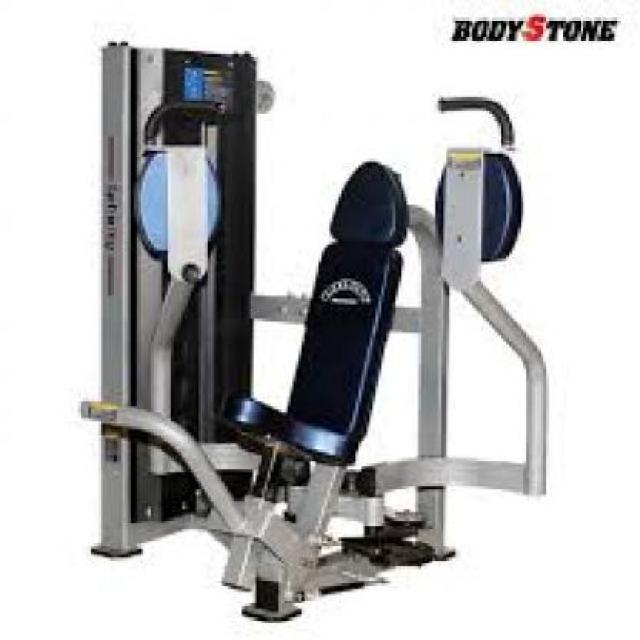chest fly machine: (57, 26, 560, 631)
